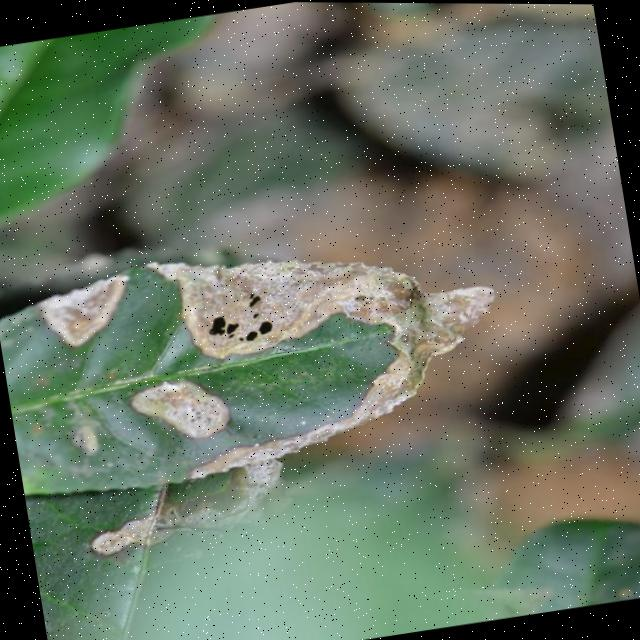Tea cloud leaf blight: (185, 224, 542, 482), (80, 443, 310, 580), (17, 234, 161, 364), (136, 360, 252, 460)
